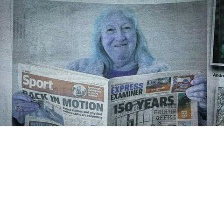news_paper: (15, 58, 201, 127)
